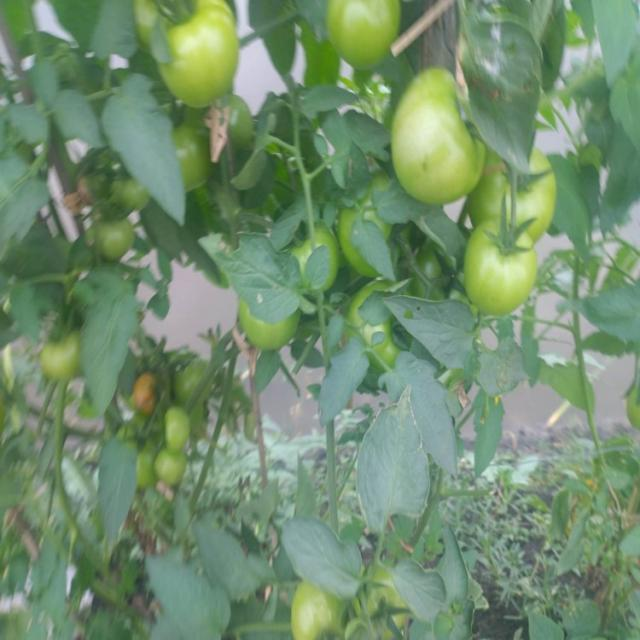tomato: (384, 69, 478, 205), (341, 284, 439, 376), (156, 2, 237, 101), (457, 221, 542, 315), (300, 576, 422, 640), (468, 151, 561, 232), (166, 104, 245, 192), (334, 195, 414, 275), (417, 237, 485, 323), (332, 1, 405, 74), (233, 294, 304, 353), (291, 232, 341, 295), (124, 420, 164, 486), (101, 162, 152, 212), (43, 339, 93, 389), (94, 217, 147, 261), (132, 3, 174, 49), (131, 359, 163, 416), (178, 354, 212, 407), (160, 411, 200, 455), (157, 440, 185, 491)
